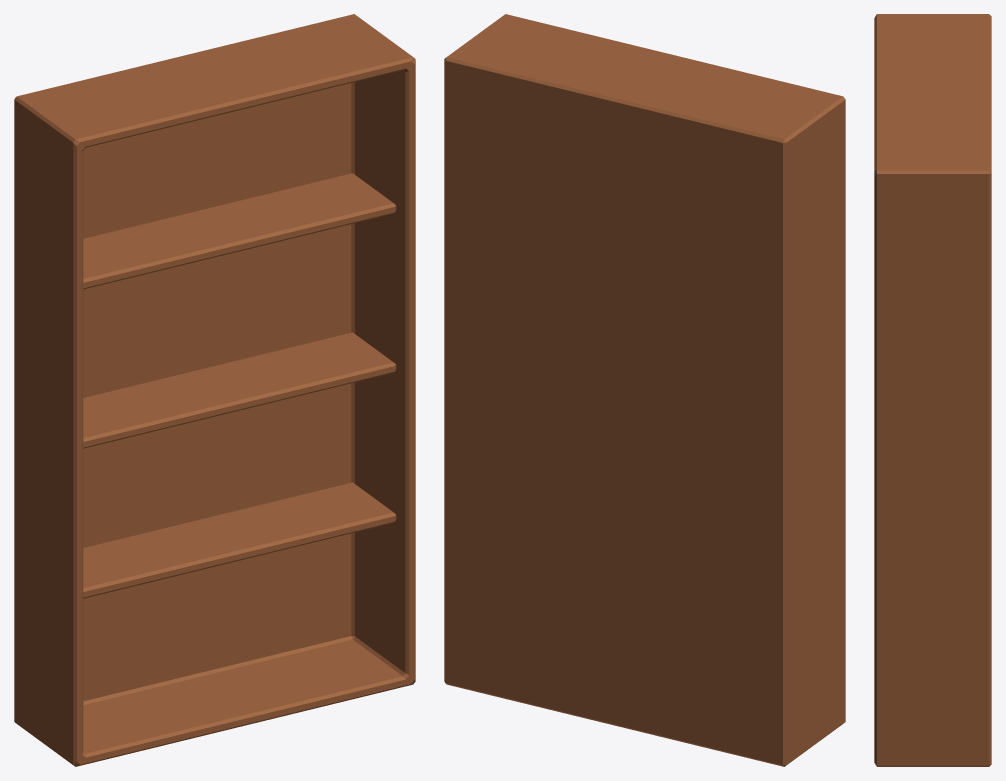
Rendered from shelf.gltf.
The picture shows the model from 3 angles, left to right: view 1: azimuth 30°, elevation 25°; view 2: azimuth 150°, elevation 25°; view 3: azimuth 270°, elevation 25°; orthographic projection. The views are drawn at different scales.
Visible parts, largest first — view 1: Shelf D; view 2: Shelf D; view 3: Shelf D.
Part boxes in pixels (x1,y1,x2,y2): Shelf D: [14, 14, 415, 766]; Shelf D: [444, 14, 845, 766]; Shelf D: [874, 14, 991, 766].
Size of the model in its own units: 6.14 by 10.76 by 1.91.
